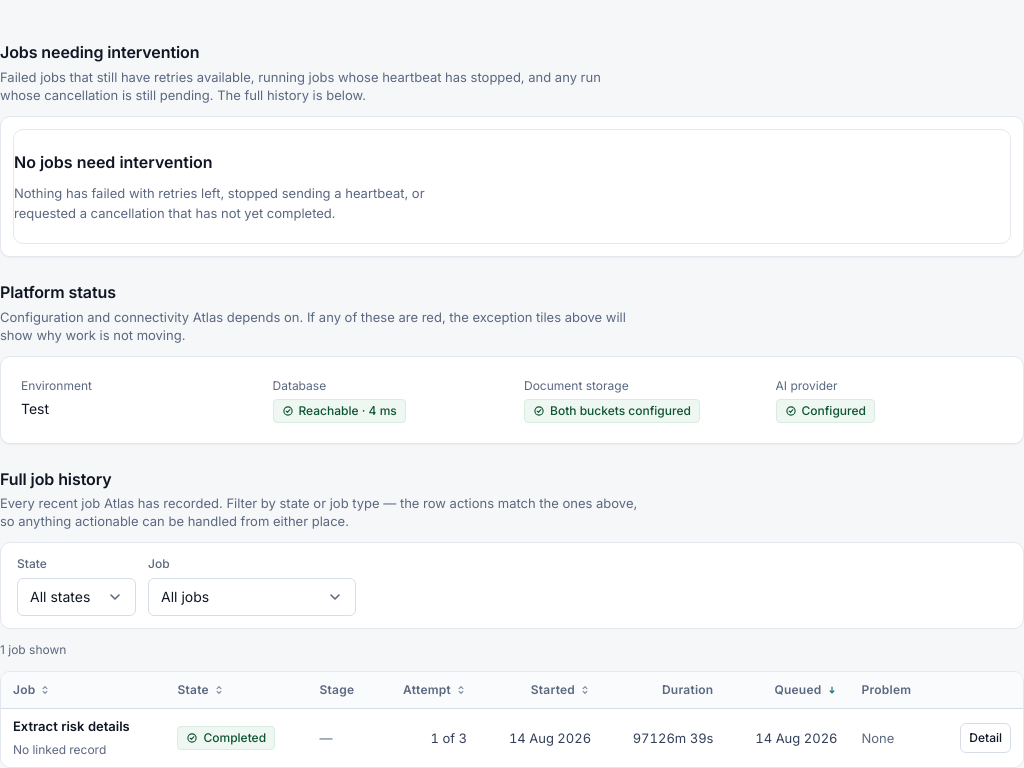
Test case: Processing operations workbench › opens the technical drawer with the job identifier
(page scrolled)
Check: the heading "Full job history" is shown, box top-left (0, 469), bottom-right (112, 489)
Click the button "Detail": x=986, y=738 top-left (960, 723), bottom-right (1011, 753)
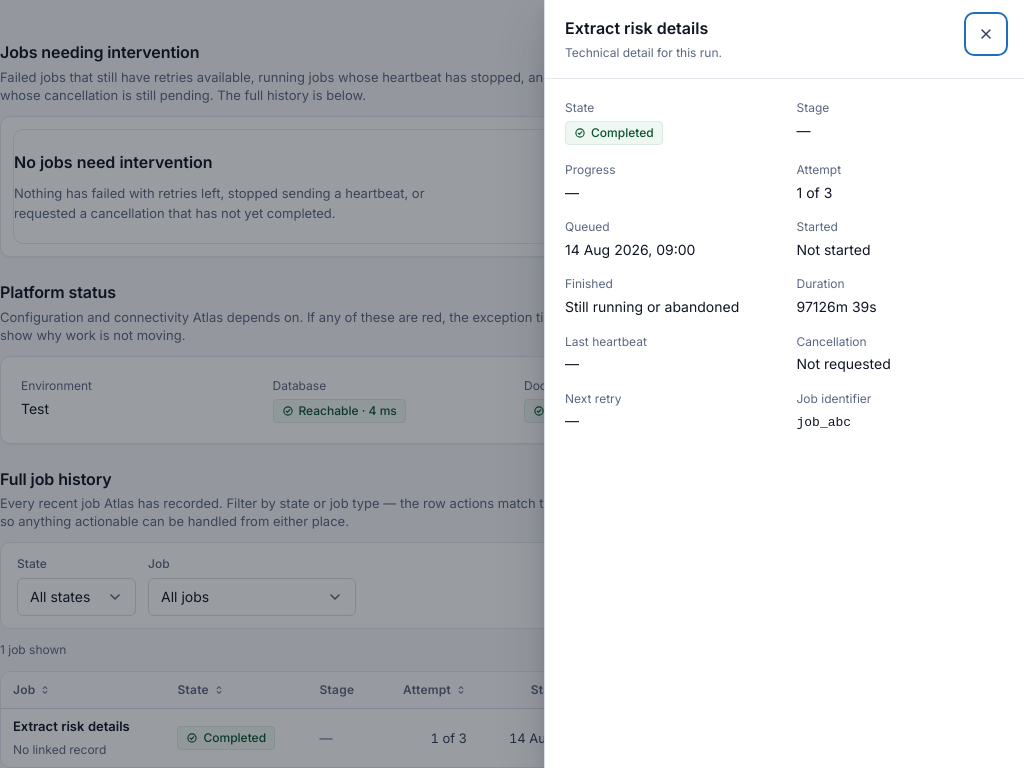
Check: the text "job_abc" is shown, box top-left (796, 415), bottom-right (851, 430)
